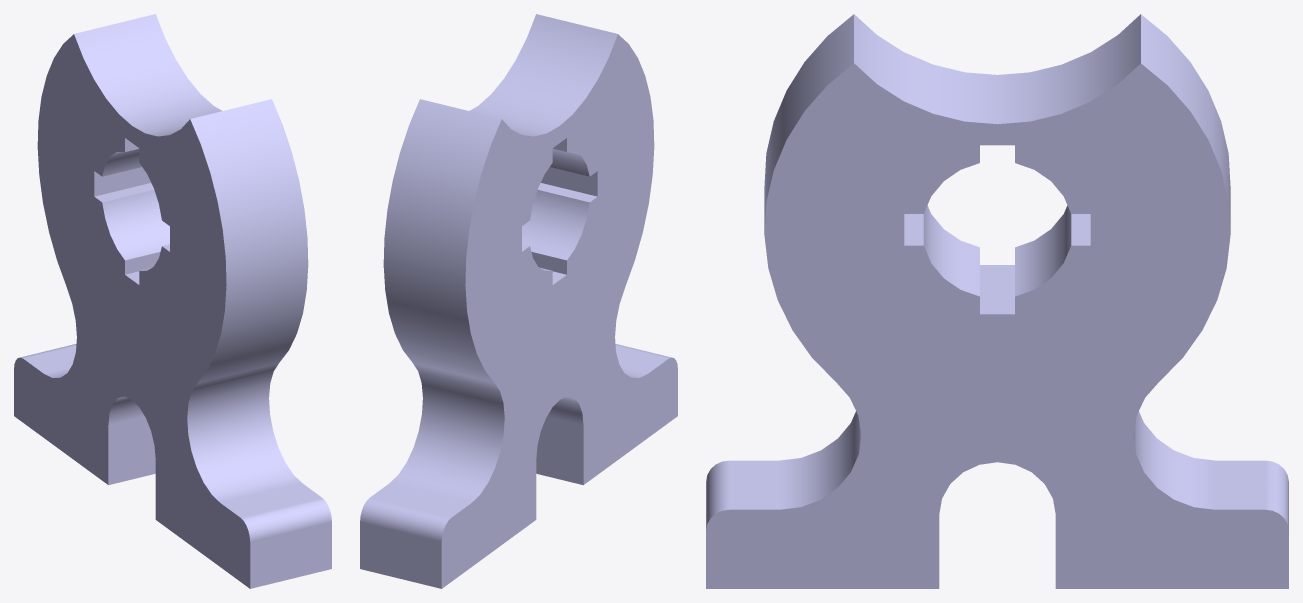
The model's file is 27 Upright 03.fbx.
3 views of the same model, side by side, from view 1: azimuth 30°, elevation 25°; view 2: azimuth 150°, elevation 25°; view 3: azimuth 270°, elevation 25° (orthographic). The views are drawn at different scales.
Parts seen in each view (by area): view 1: PartBody; view 2: PartBody; view 3: PartBody.
Part boxes in pixels (x1=…): PartBody: x1=14, y1=14, x2=331, y2=588; PartBody: x1=360, y1=14, x2=677, y2=588; PartBody: x1=706, y1=14, x2=1288, y2=588.
Size of the model in its own units: 0.7874 by 3.92 by 3.94.
